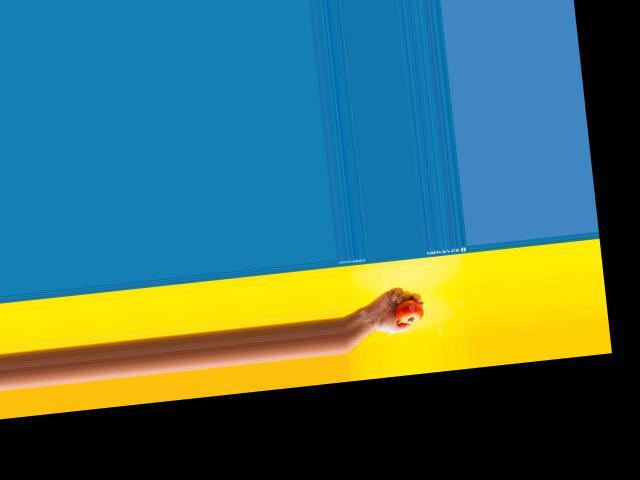tomato: (394, 298, 423, 324)
